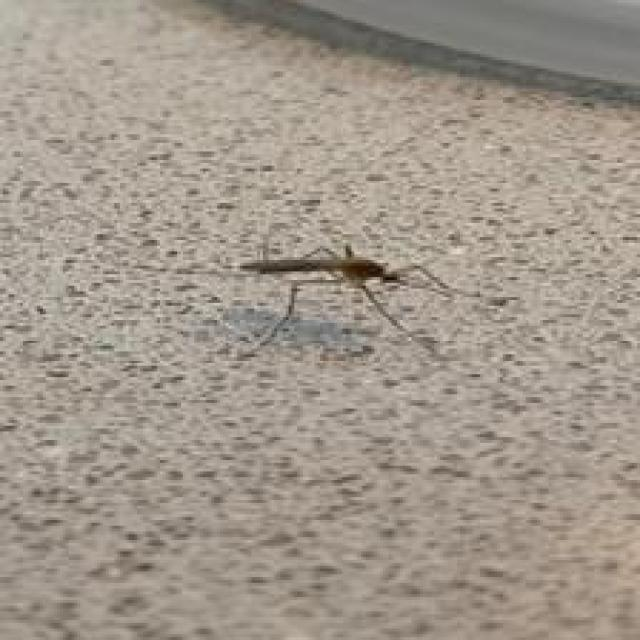Culex: (220, 242, 469, 358)
